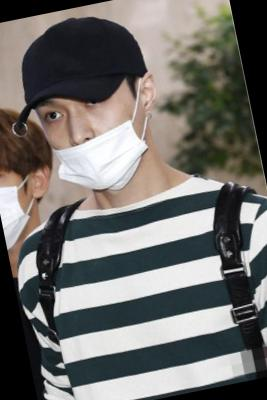mask_weared_incorrect: (36, 83, 158, 199)
